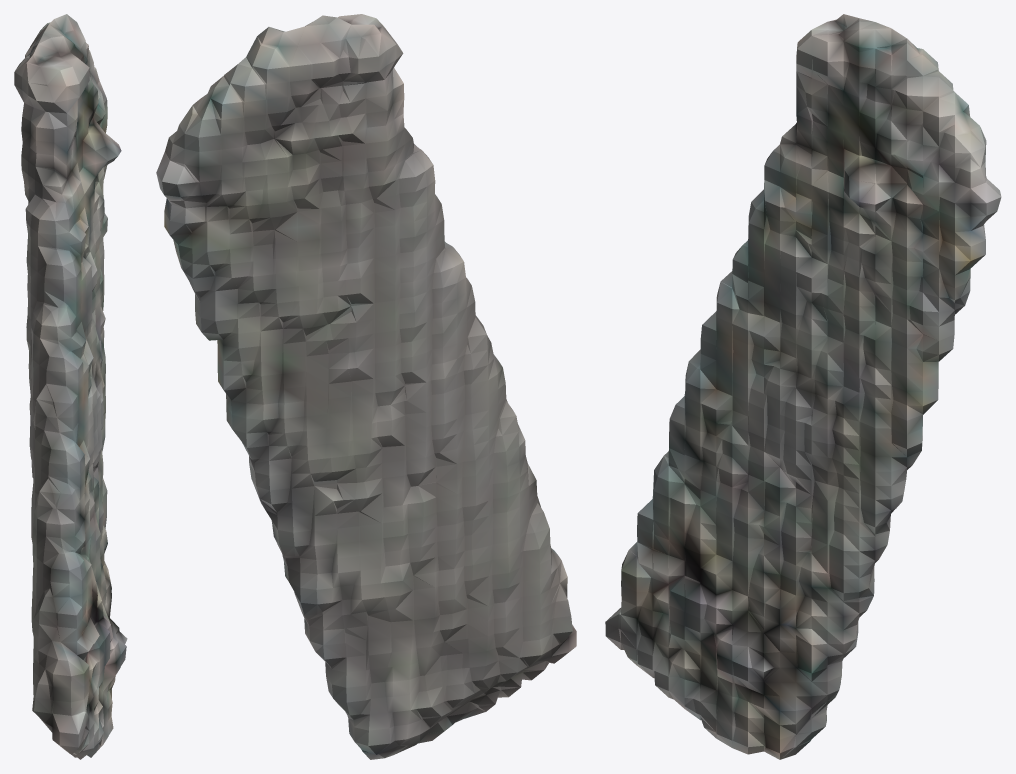
The model's file is pcb.glb.
3 renders of one model, left to right at view 1: azimuth 30°, elevation 25°; view 2: azimuth 150°, elevation 25°; view 3: azimuth 270°, elevation 25°, orthographic. The views are drawn at different scales.
Visible parts, largest first — view 1: world; view 2: world; view 3: world.
Boxes of the visible parts, x1,y1,x2,y2 form: world: [14, 14, 127, 759]; world: [156, 14, 576, 759]; world: [605, 14, 1001, 759].
Size of the model in its own units: 0.3088 by 0.932 by 0.4561.
